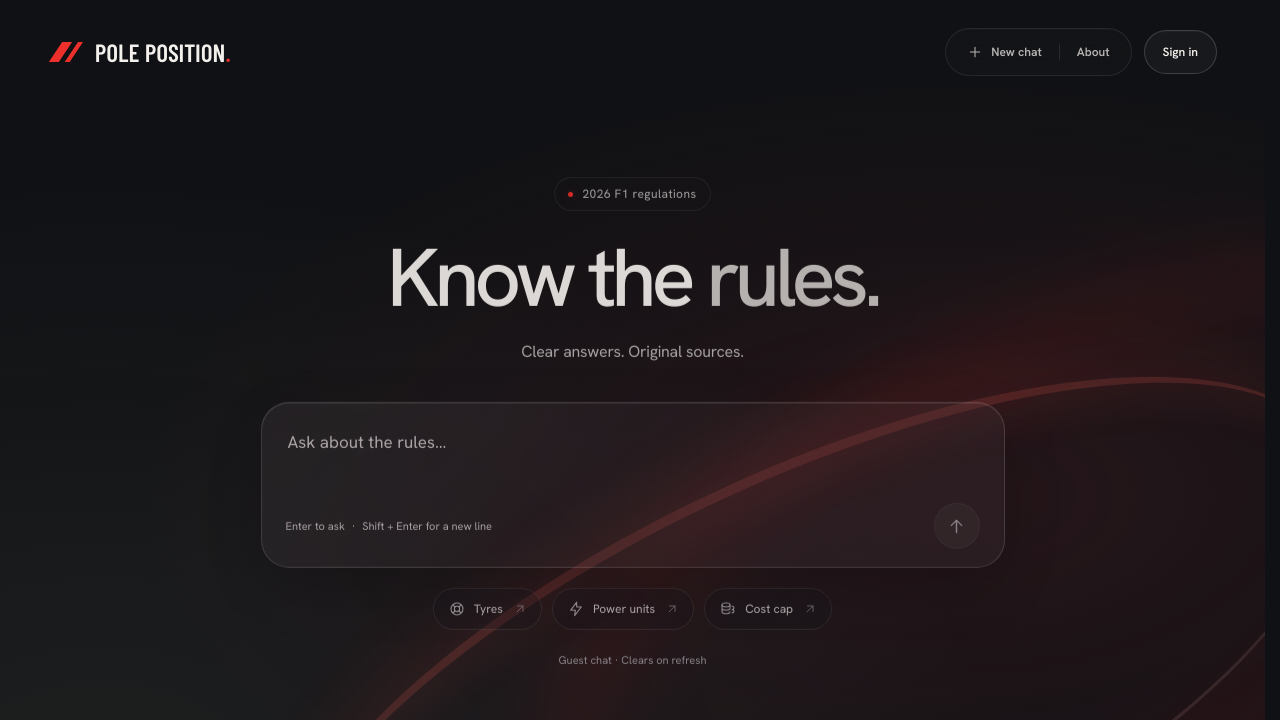
Test case: guest chat integration › New chat aborts pending work and ignores the late answer
In the text box: (632, 457) [286,424,980,490], type "Old question"
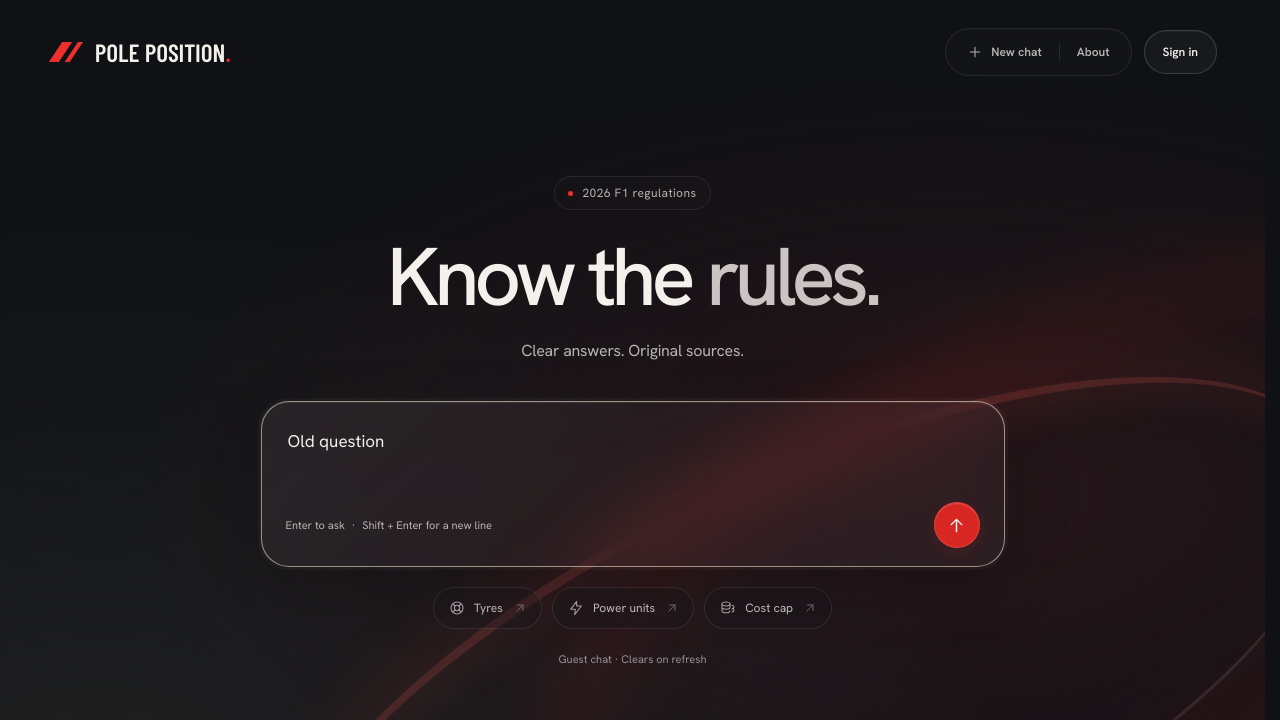
Click the button named "Send question": (956, 525) [934,502,980,548]
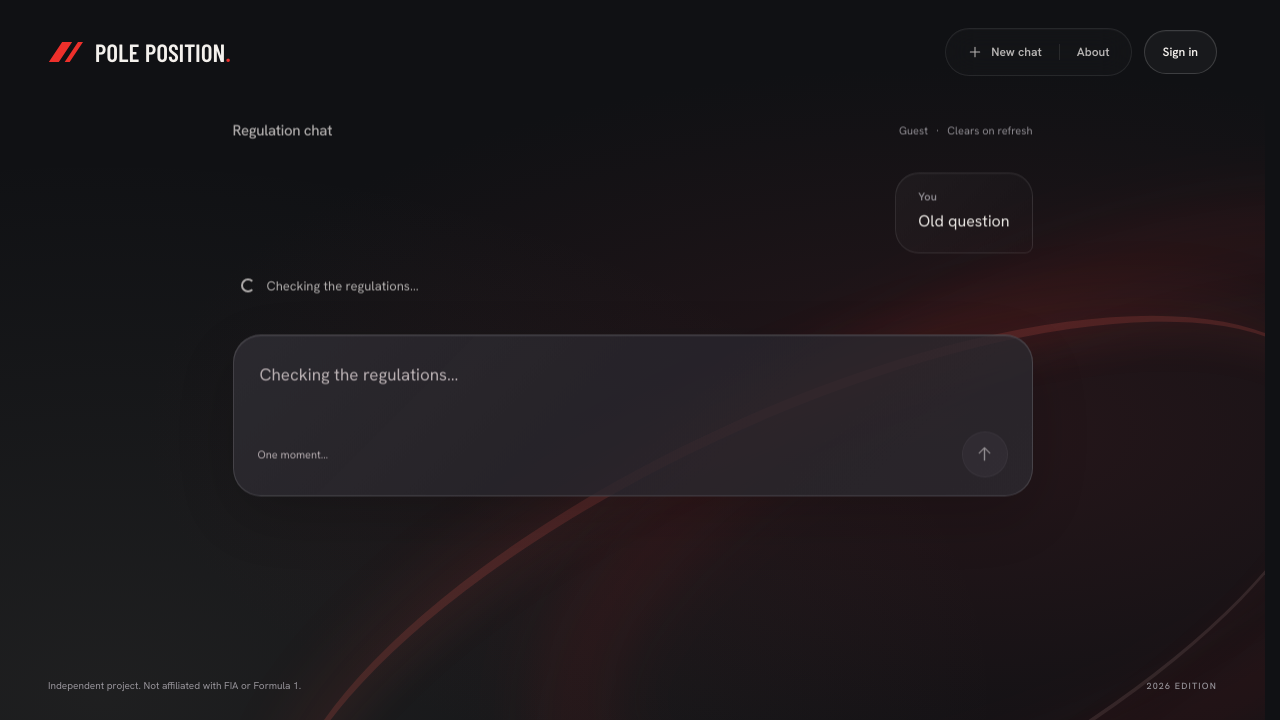
Click the button "New chat": (1004, 52) [950,33,1059,71]
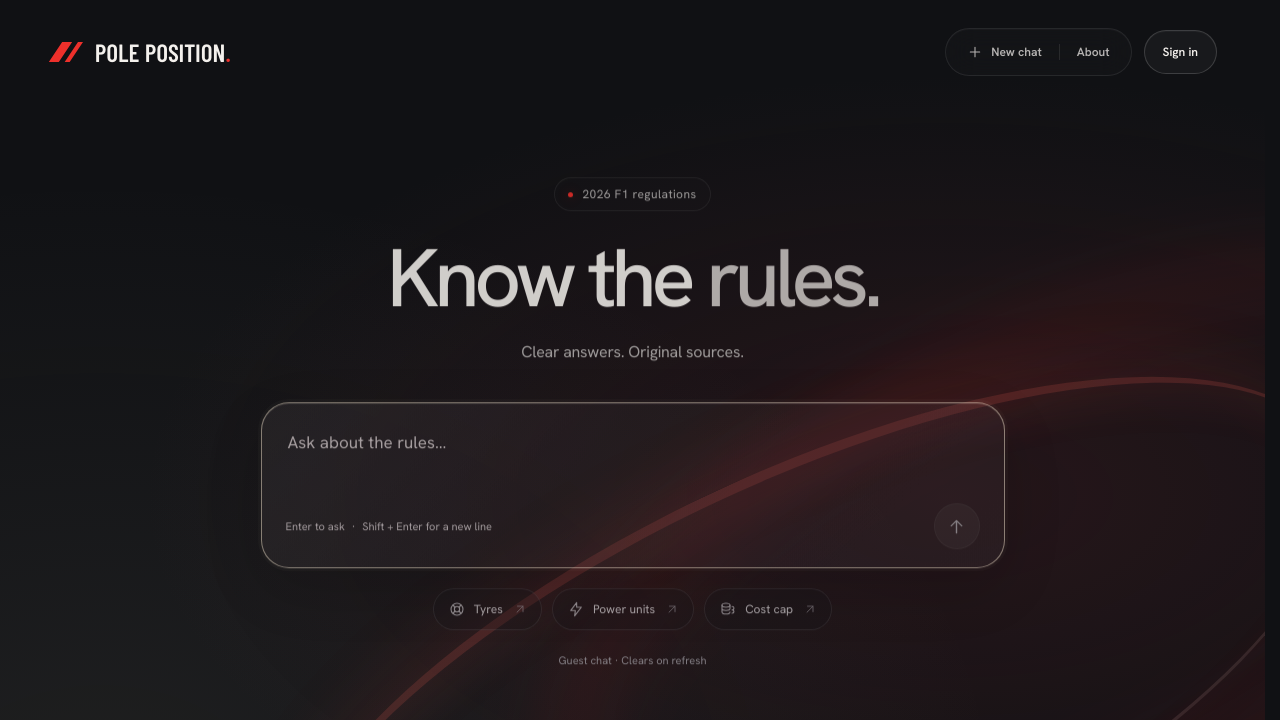
Now the heading "Know the rules." is shown, box [387,223,878,330]
In the text box: (632, 457) [286,424,980,490], type "Fresh question"
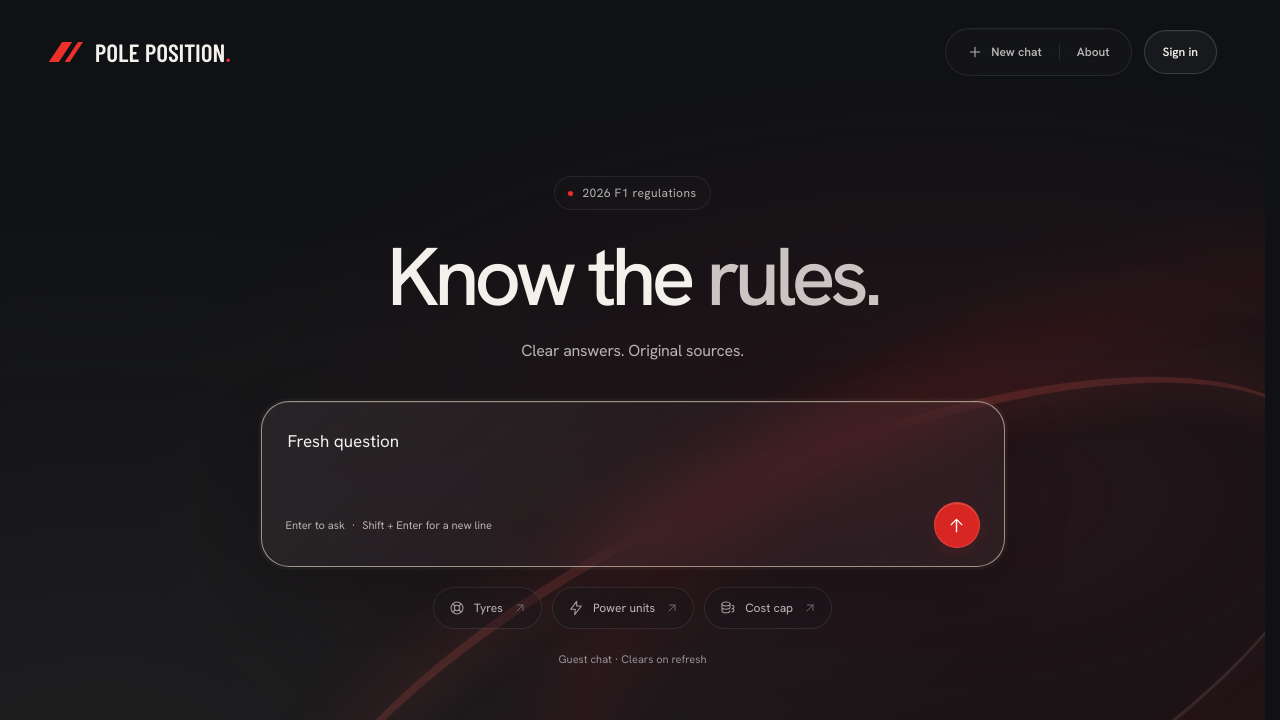
Click the button named "Send question": (956, 525) [934,502,980,548]
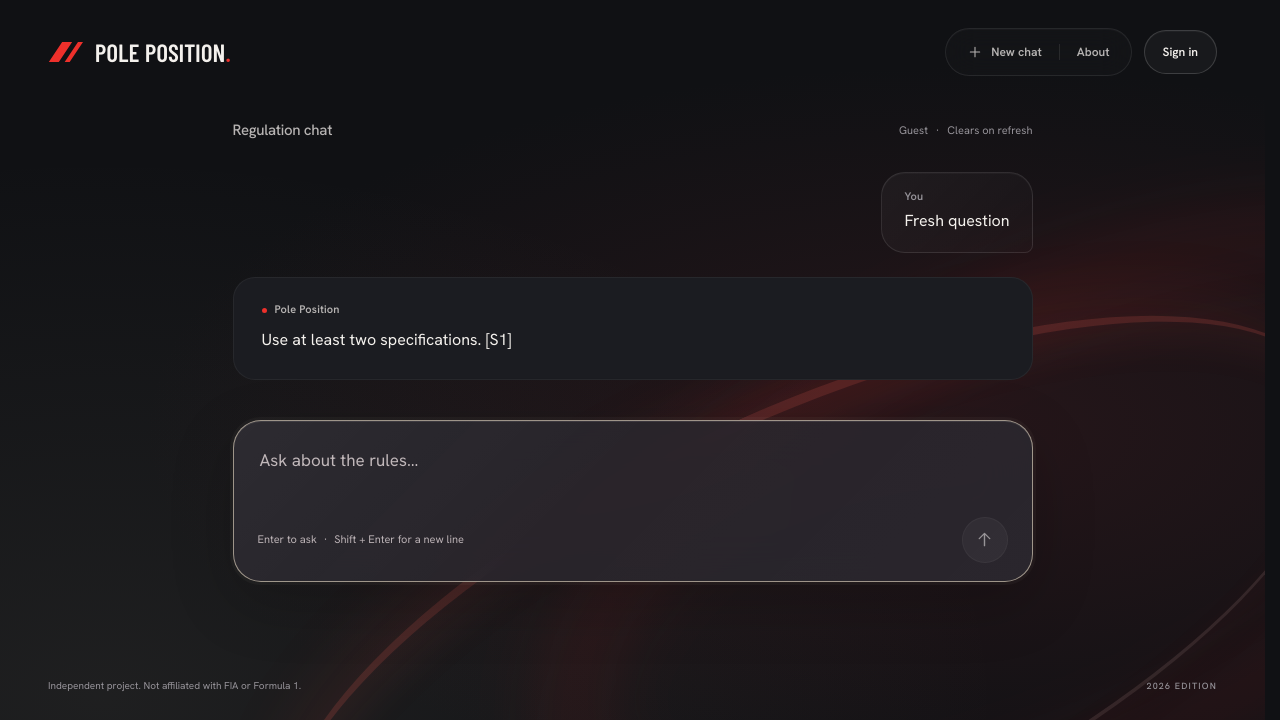
Now the text "Use at least two specifications. [S1]" is shown, box [262,329,512,350]
